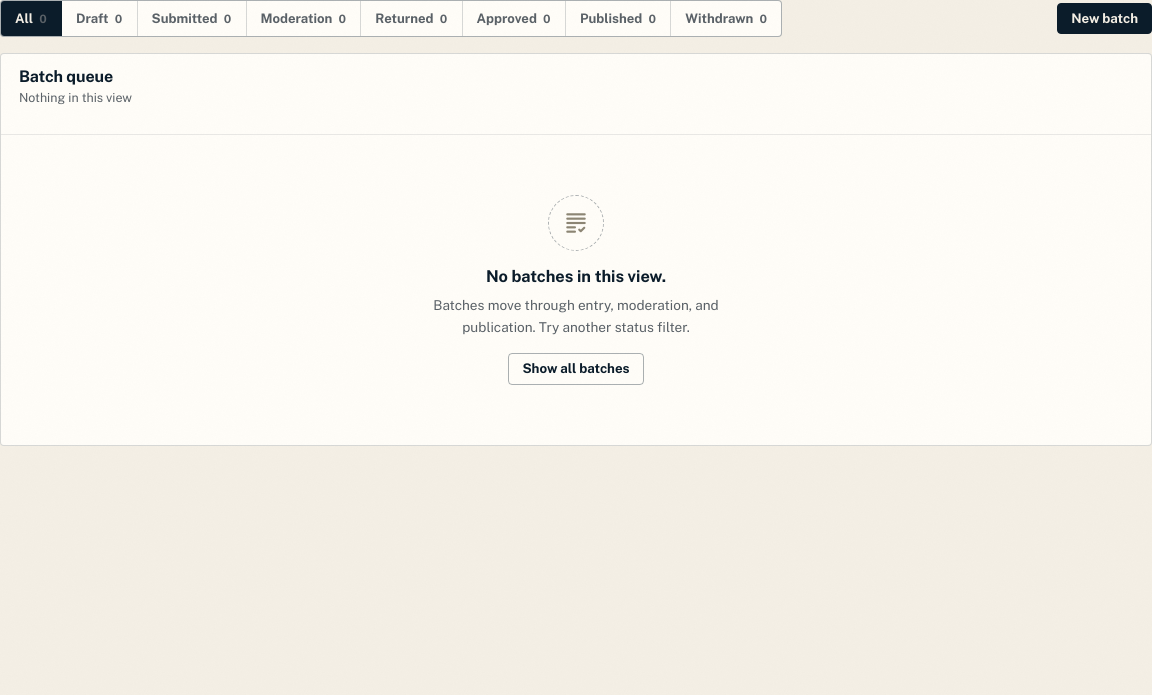
it: new batch creation › offers a retry when the exam definitions read fails, then loads the options
Click the button "New batch" at coordinates (1105, 18), box [1057,2,1151,34]
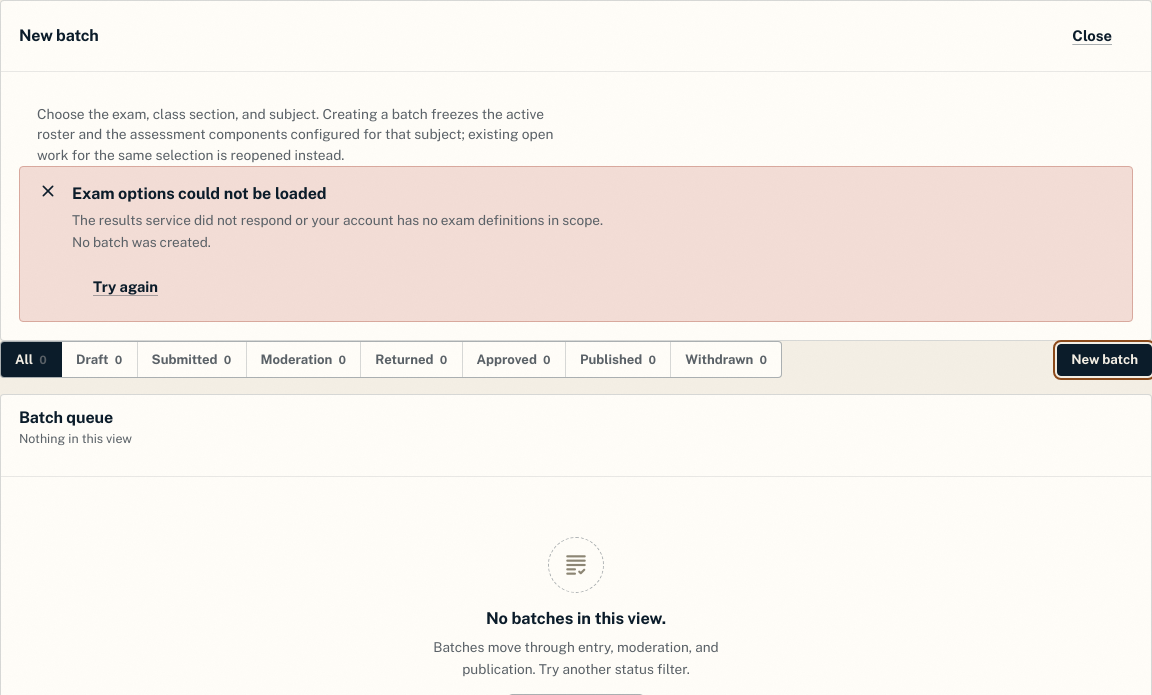
Result: the text "Exam options could not be loaded" is shown at [72,184,327,203]
Click the button "Try again" at coordinates (126, 287), box [72,266,179,307]
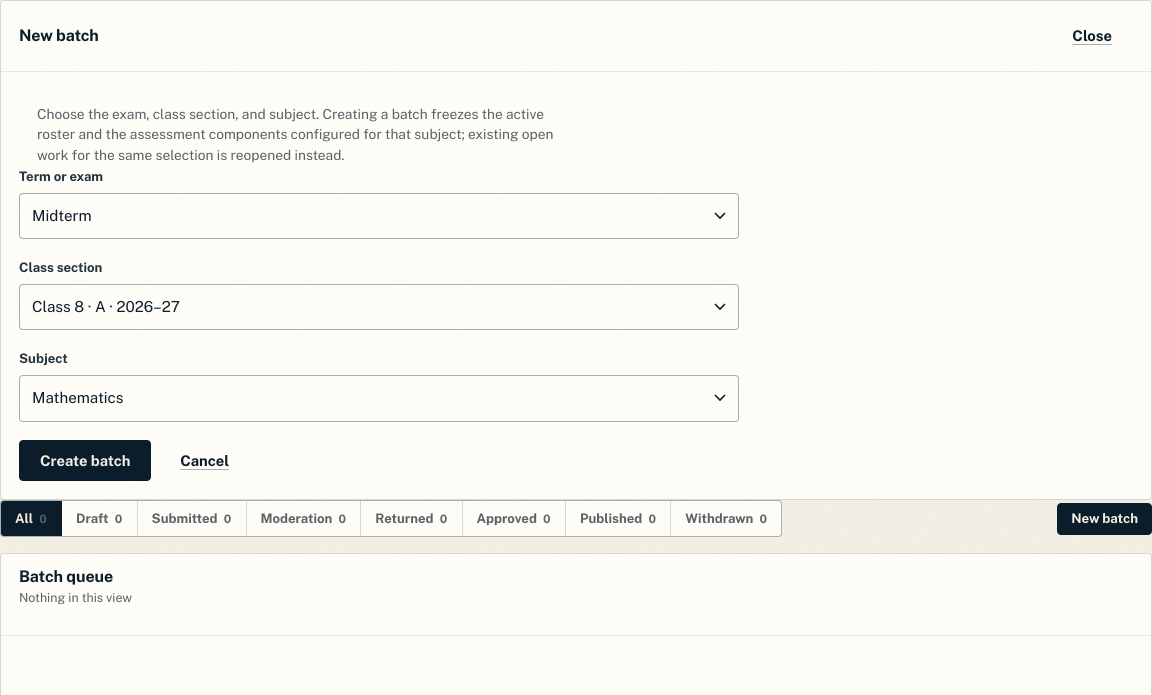
Result: the dropdown labelled "Term or exam" shows "Midterm" at [19,193,739,239]
Result: the button "Create batch" is enabled at [19,440,151,481]
